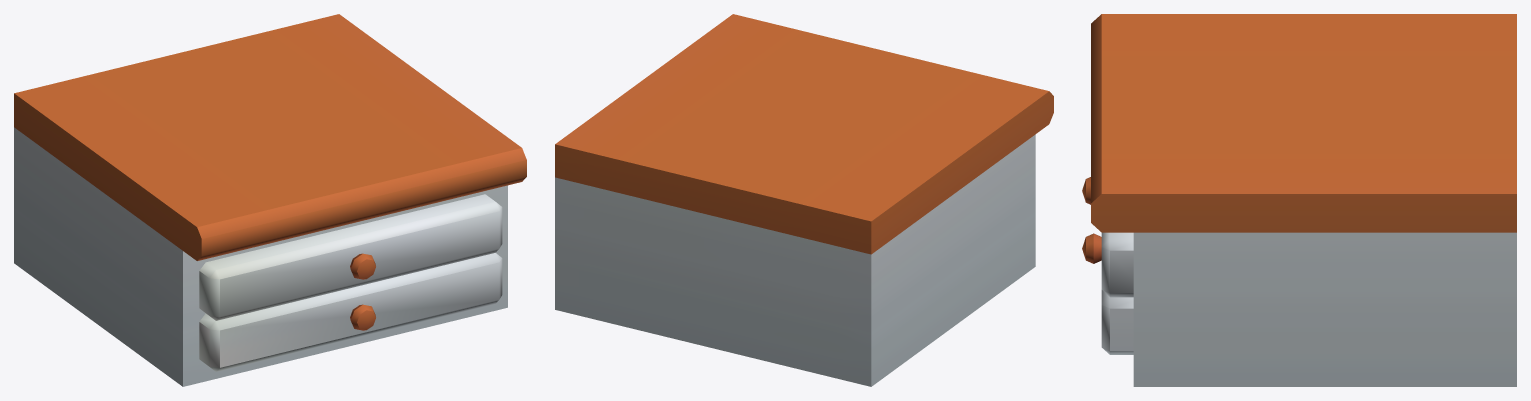
File: kay-bancada-lisa.gltf
3 renders of one model, left to right at view 1: azimuth 30°, elevation 25°; view 2: azimuth 150°, elevation 25°; view 3: azimuth 270°, elevation 25°, orthographic. The views are drawn at different scales.
Parts seen in each view (by area): view 1: kitchencounter_straight_A; view 2: kitchencounter_straight_A; view 3: kitchencounter_straight_A.
Part boxes in pixels (box(x1,y1,x2,y2)): kitchencounter_straight_A: box(14, 14, 526, 386); kitchencounter_straight_A: box(555, 14, 1053, 386); kitchencounter_straight_A: box(1082, 14, 1516, 386).
Bounding box in the file's own units: 1.3 × 0.6499 × 1.33.
Materials: 1 (1 with a texture image).
